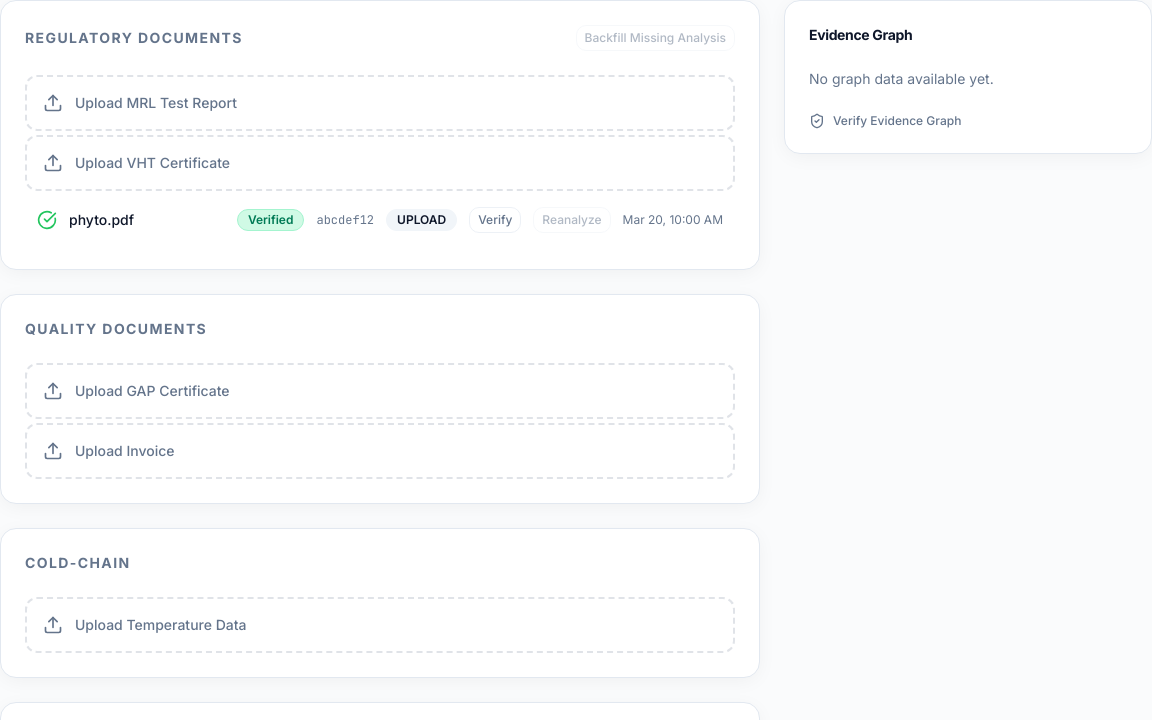
TabEvidence › existing evidence display › shows an artifact-level error when verification fails
Click the button "Verify": (495, 220) x1=469 y1=207 x2=521 y2=233
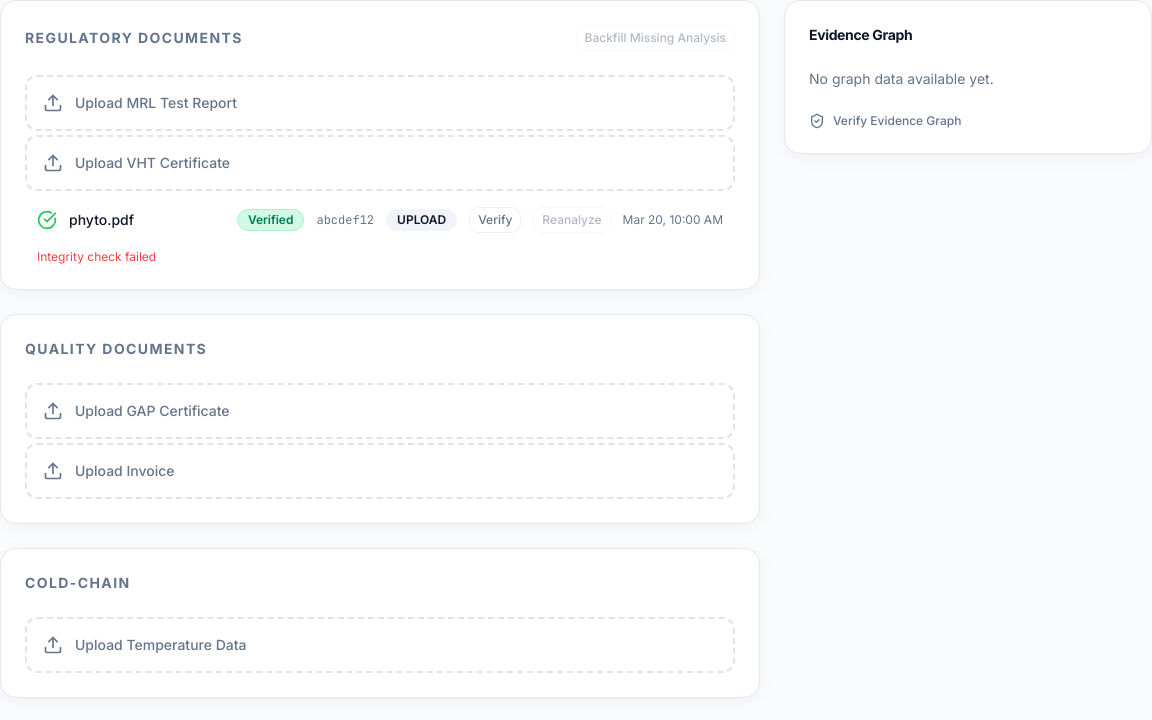
Expected: the text "Integrity check failed" is shown, x1=37 y1=249 x2=156 y2=264
